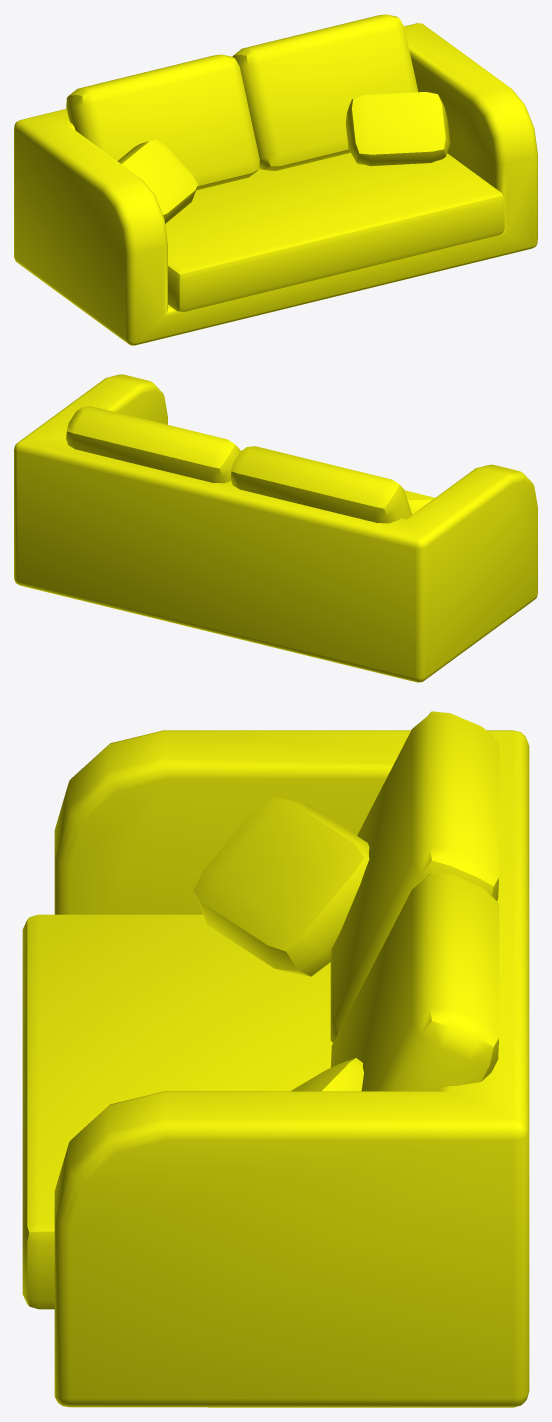
Rendered from kaykit-couch-pillows.glb.
3 views of the same model, one above another, from view 1: azimuth 30°, elevation 25°; view 2: azimuth 150°, elevation 25°; view 3: azimuth 270°, elevation 25° (orthographic). The views are drawn at different scales.
Parts seen in each view (by area): view 1: couch_pillows; view 2: couch_pillows; view 3: couch_pillows.
Part boxes in pixels (x1=…): couch_pillows: x1=14, y1=14, x2=537, y2=345; couch_pillows: x1=14, y1=374, x2=537, y2=682; couch_pillows: x1=22, y1=711, x2=529, y2=1407.
Bounding box in the file's own units: 3 × 1.22 × 1.6.
